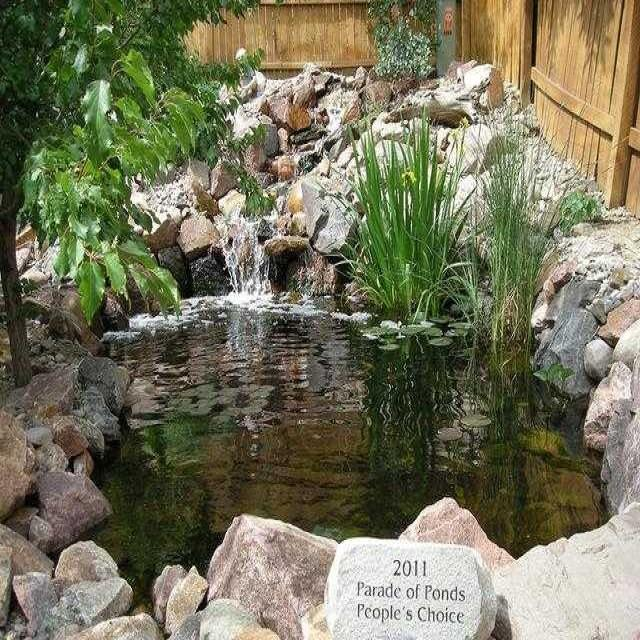Ponds: (1, 63, 640, 640)
